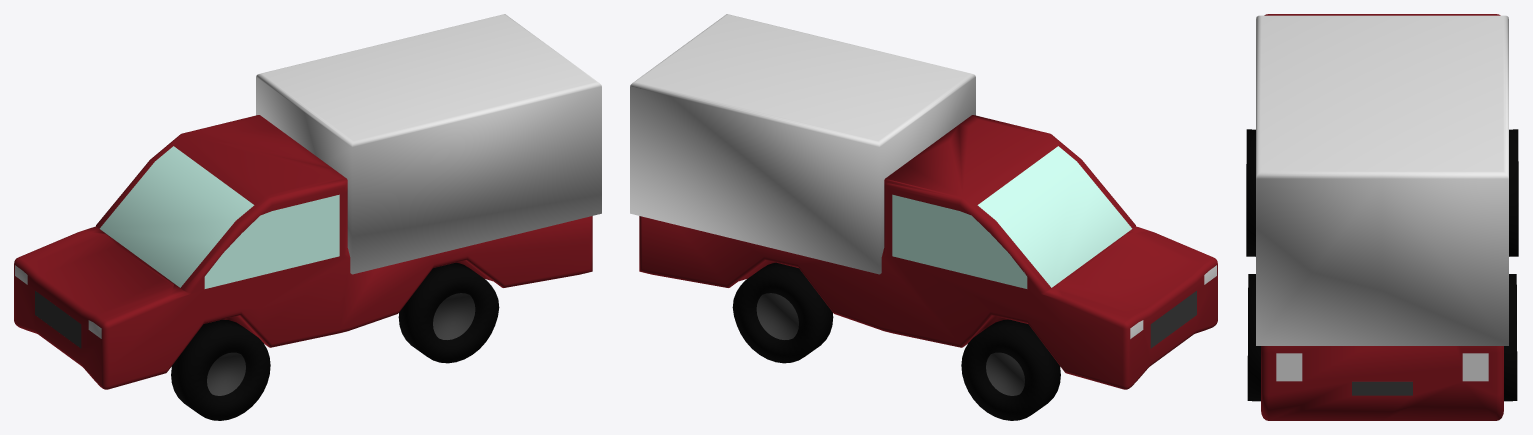
The model's file is voiture.gltf.
3 views of the same model, side by side, from view 1: azimuth 30°, elevation 25°; view 2: azimuth 150°, elevation 25°; view 3: azimuth 270°, elevation 25° (orthographic). The views are drawn at different scales.
Parts seen in each view (by area): view 1: Cube; view 2: Cube; view 3: Cube.
Part boxes in pixels (x1=…): Cube: x1=14, y1=14, x2=601, y2=420; Cube: x1=630, y1=14, x2=1217, y2=420; Cube: x1=1246, y1=14, x2=1518, y2=420.
Bounding box in the file's own units: 8.85 × 4.14 × 3.21.
